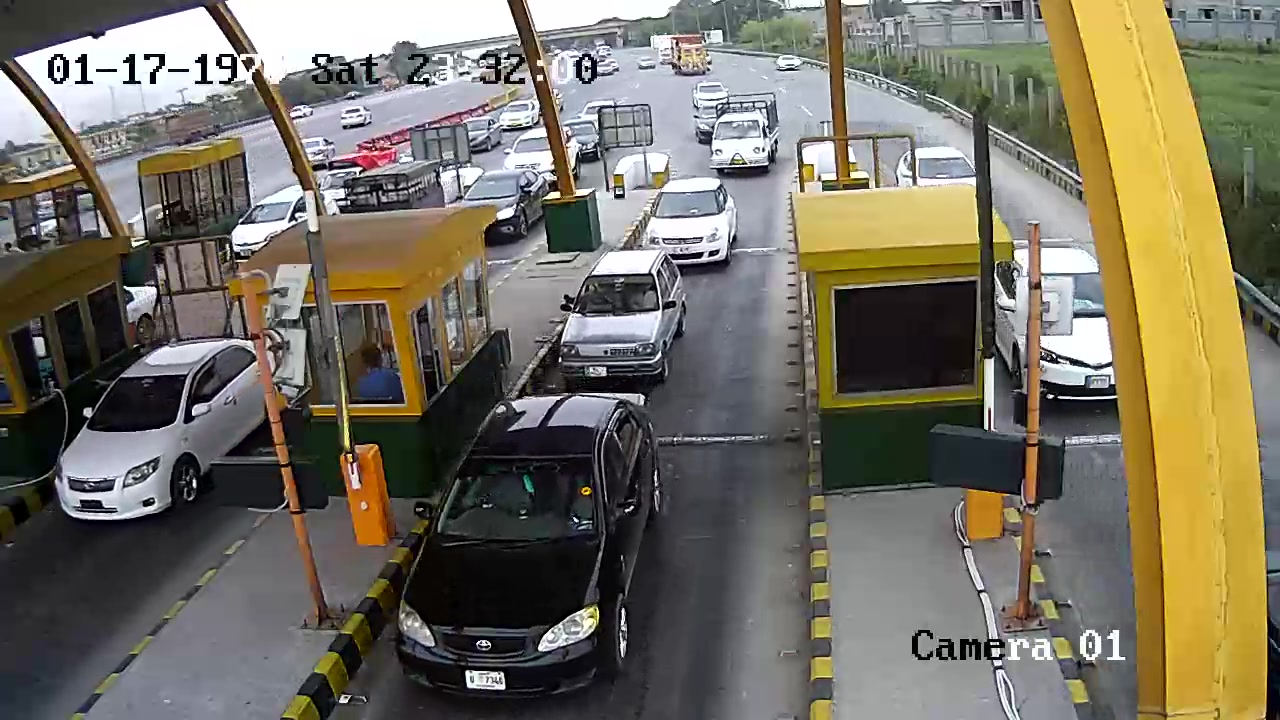F1: (381, 397, 682, 698), (557, 246, 688, 390)
